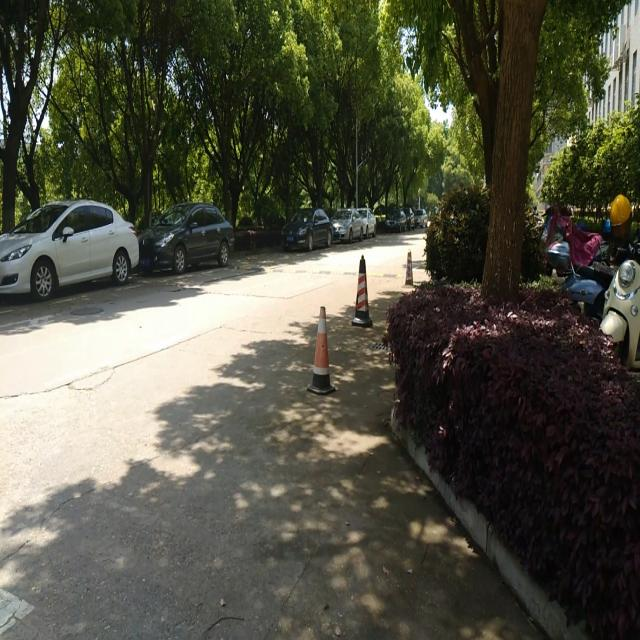car: (0, 198, 139, 299), (139, 200, 235, 272), (279, 207, 332, 249), (331, 207, 363, 243), (358, 207, 377, 237), (386, 208, 406, 232), (414, 208, 427, 228)
motorbike: (598, 257, 640, 368)
pole: (354, 121, 358, 207)
reflective_cone: (308, 306, 336, 393), (352, 254, 372, 325), (404, 249, 414, 288)
